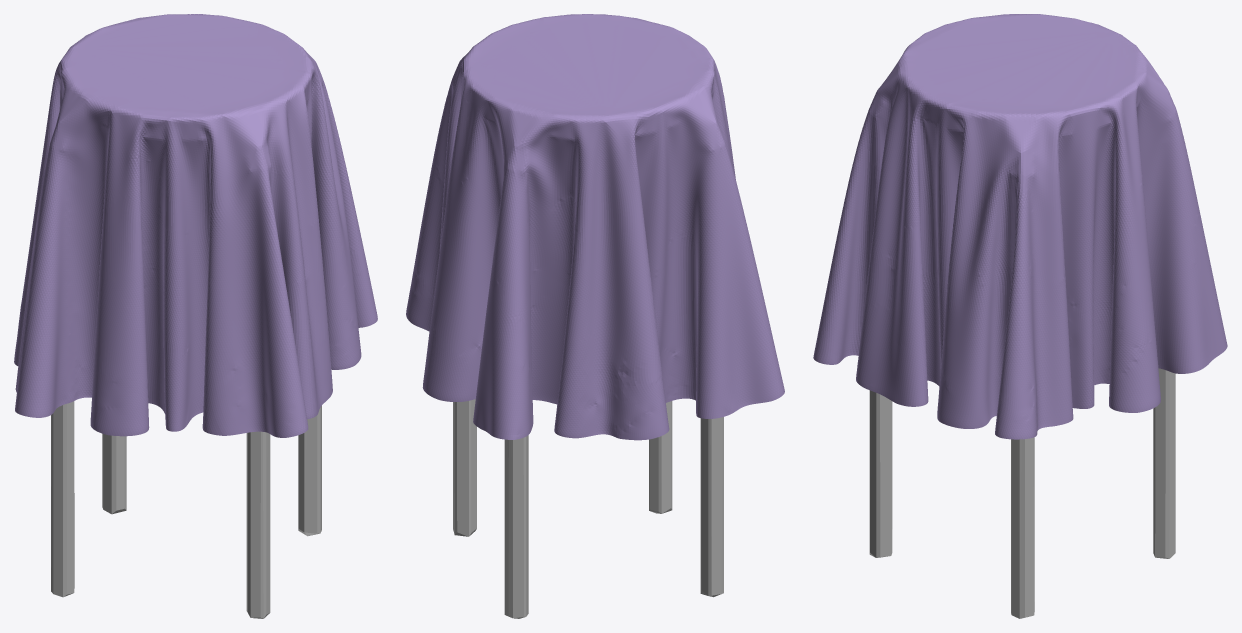
Rendered from level_4.glb.
3 renders of one model, left to right at view 1: azimuth 30°, elevation 25°; view 2: azimuth 150°, elevation 25°; view 3: azimuth 270°, elevation 25°, orthographic.
Parts seen in each view (by area): view 1: world, object.obj; view 2: world, object.obj; view 3: world, object.obj.
Part boxes in pixels (x1,y1,x2,y2): world: (14,14,377,437); object.obj: (51,401,321,618); world: (406,14,784,440); object.obj: (453,399,723,618); world: (813,14,1227,439); object.obj: (869,368,1175,618).
Bounding box in the file's own units: 0.2405 × 0.3135 × 0.2394.
